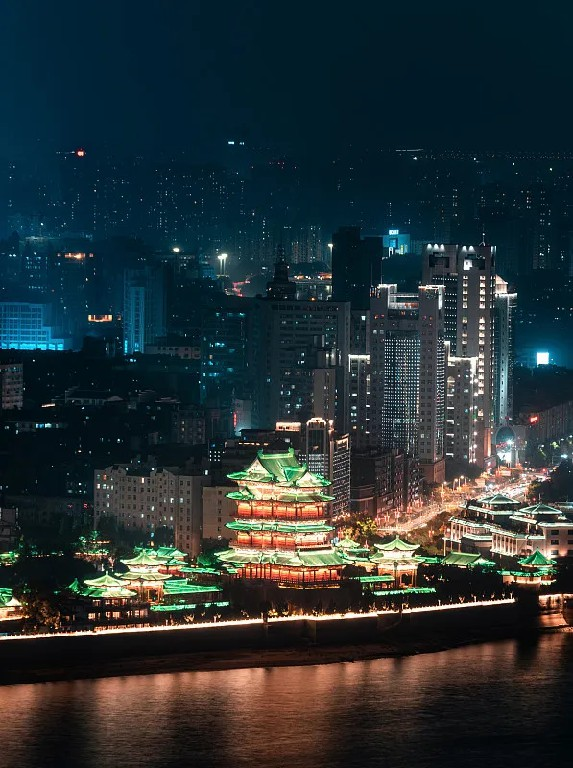Teng: (213, 448, 358, 587)
